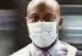with_facemask: (28, 24, 57, 44)
